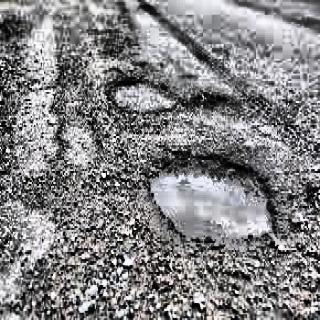pothole: (144, 143, 282, 245)
